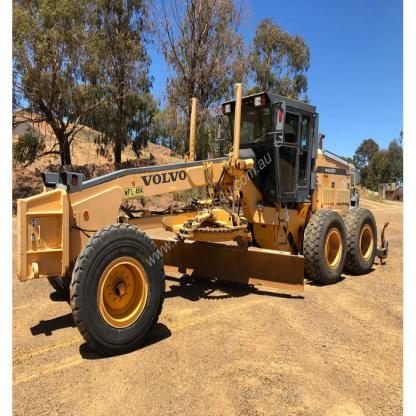bull_dozer/loader/grader: (23, 70, 390, 358)
